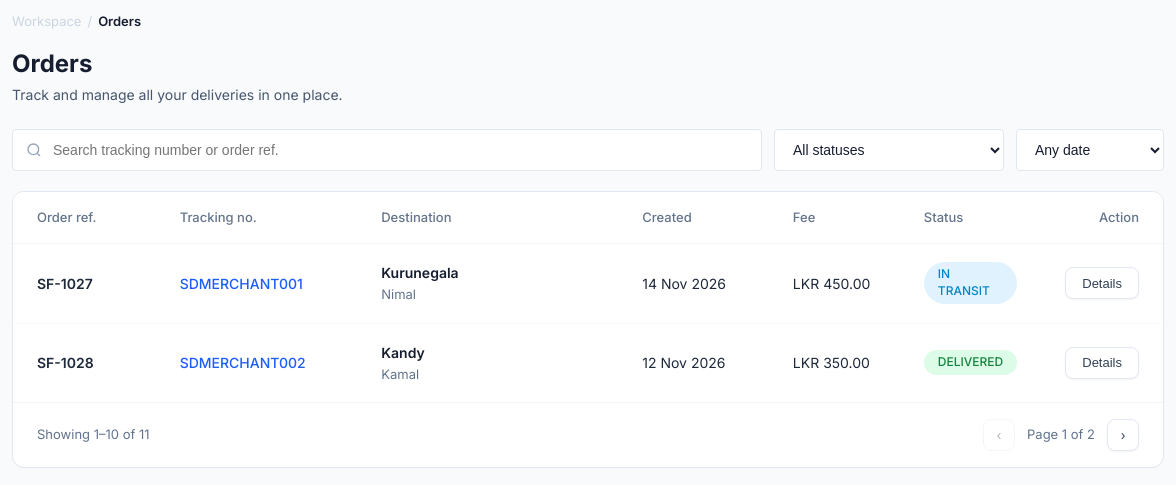
Test case: MerchantOrdersPage › filters orders by search term
Expected: the button "SDMERCHANT001" is shown, 180,275 -> 303,292
Expected: the button "SDMERCHANT002" is shown, 180,354 -> 306,371
Type "SF-1027" into the search field named "Search orders".
click(387, 150); type("SF-1027")  # box 12,128 -> 762,170
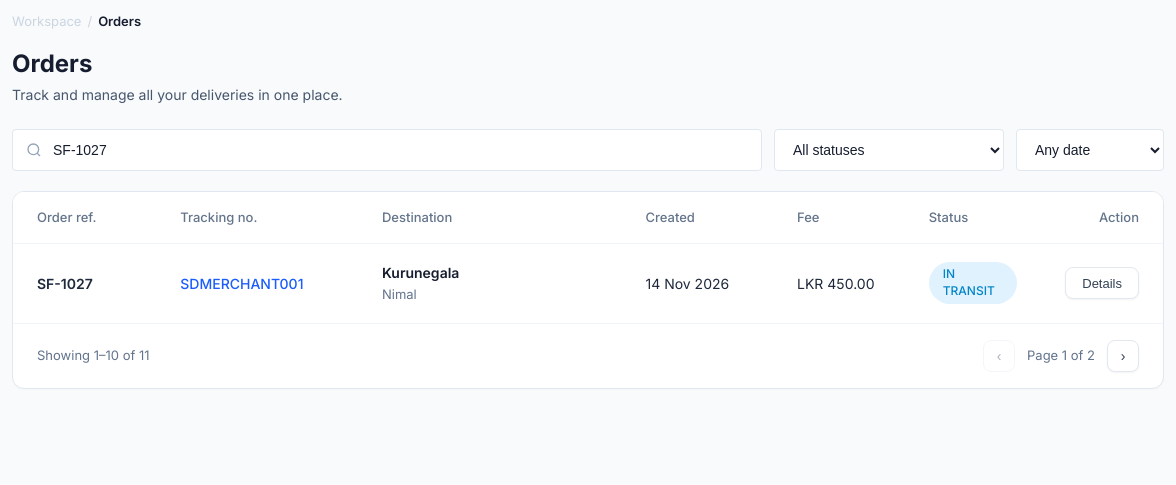
Expected: the button "SDMERCHANT001" is shown, 180,275 -> 304,292
Expected: the button "SDMERCHANT002" is gone
